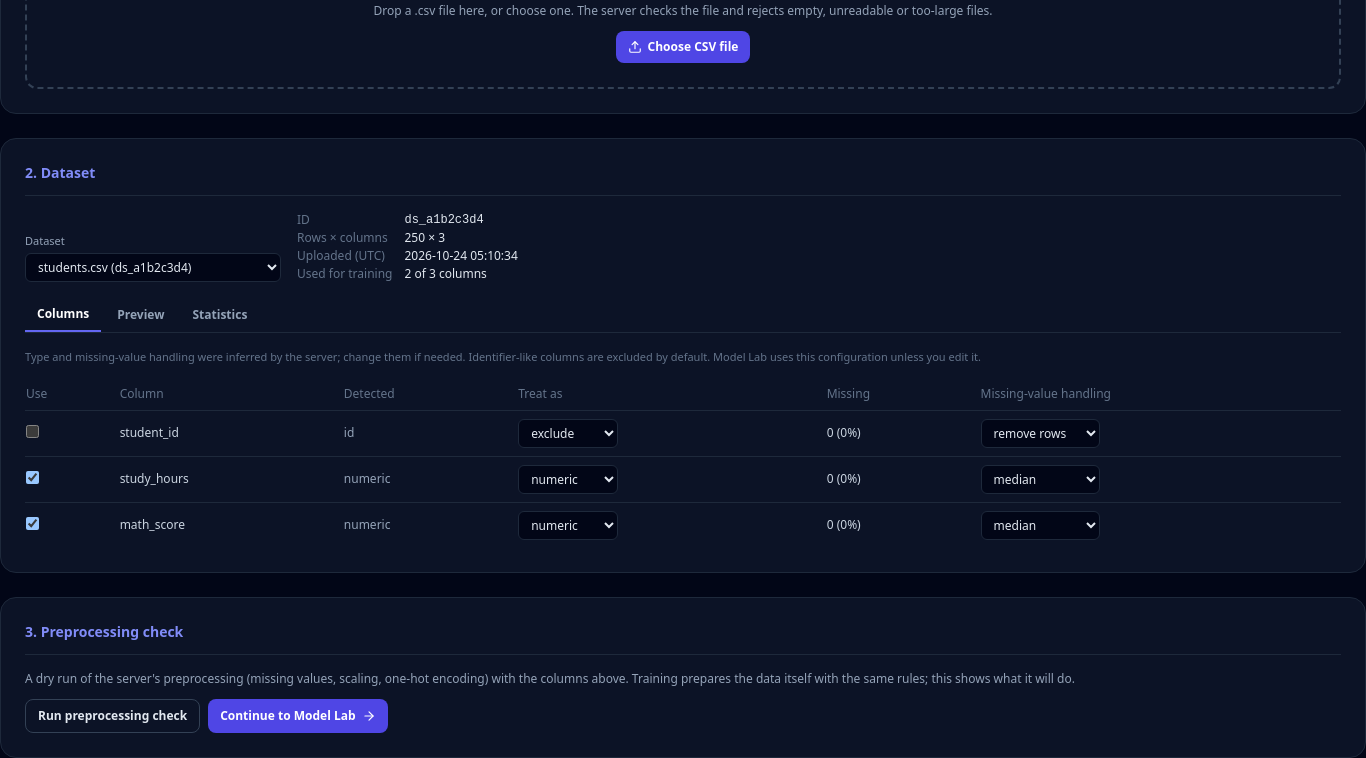
it: DatasetStudio: column configuration and preprocessing › shows preprocessing errors from the server
(page scrolled)
Click the button "Run preprocessing check": click(113, 716) left=25, top=698, right=200, bottom=732
(page scrolled)
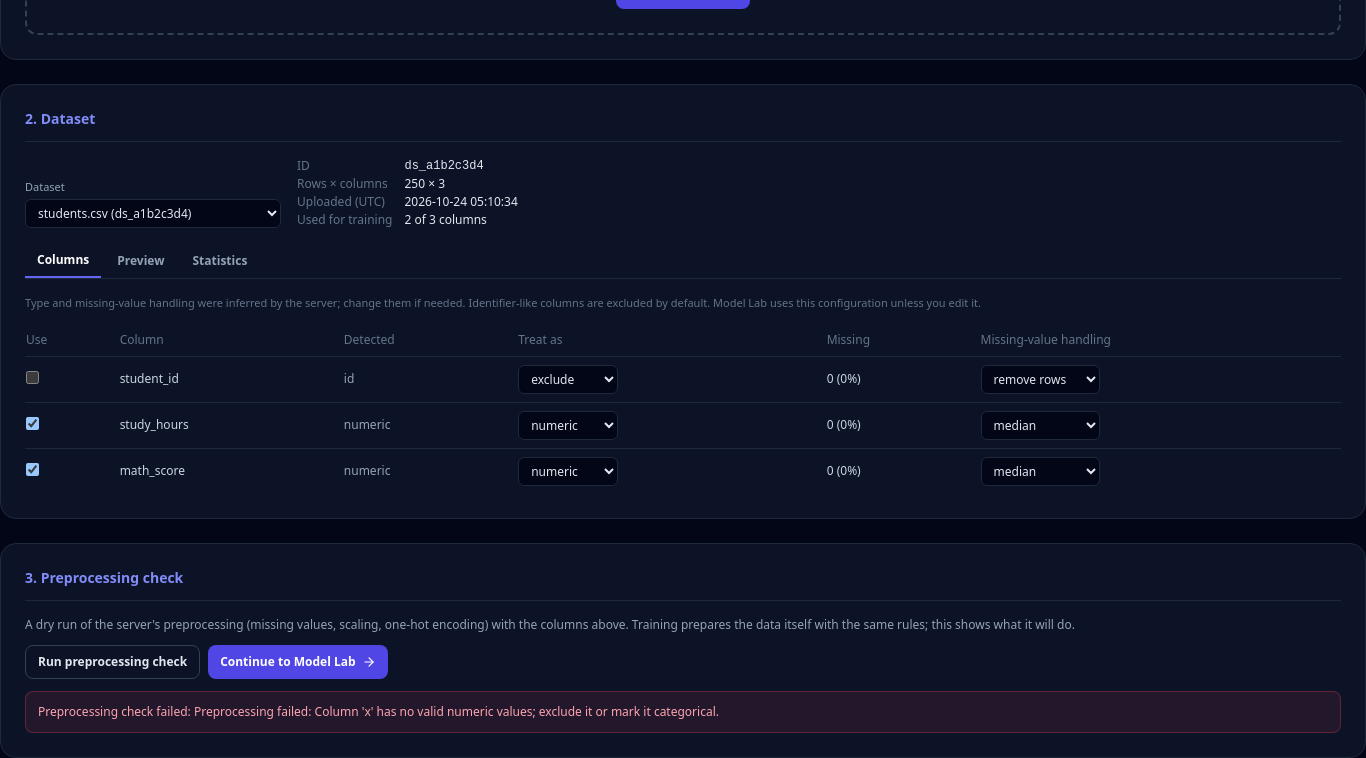
expect the message with test id "check-error" shows "has no valid numeric values": met, box left=194, top=702, right=719, bottom=720
